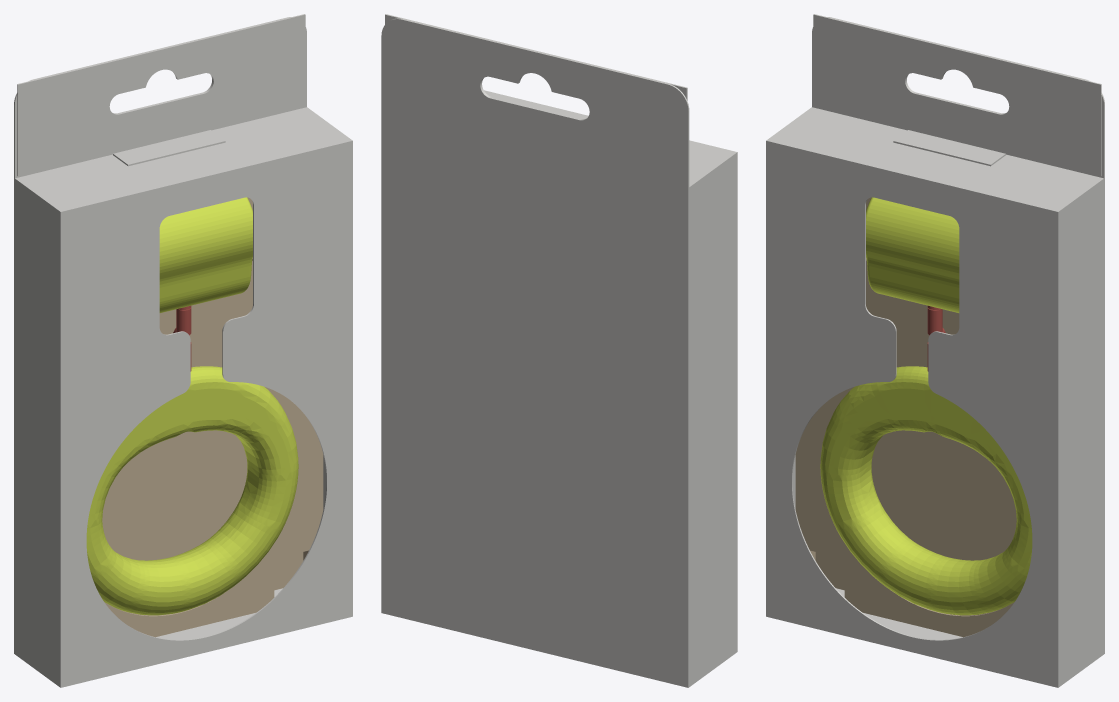
File: Tuerzwerg_Verpackung.glb
3 renders of one model, left to right at view 1: azimuth 30°, elevation 25°; view 2: azimuth 150°, elevation 25°; view 3: azimuth 330°, elevation 25°, orthographic. The views are drawn at different scales.
Parts seen in each view (by area): view 1: Umverpackung, Einleger, Aufhaenger, Ring, Manschette, Zunge; view 2: Umverpackung, Aufhaenger; view 3: Umverpackung, Einleger, Aufhaenger, Ring, Manschette, Zunge.
Boxes of the visible parts, x1,y1,x2,y2 form: Umverpackung: [14, 107, 352, 687]; Einleger: [102, 197, 323, 637]; Aufhaenger: [14, 14, 306, 178]; Ring: [86, 366, 298, 615]; Manschette: [159, 197, 252, 312]; Zunge: [113, 130, 225, 166]; Umverpackung: [381, 90, 737, 687]; Aufhaenger: [381, 14, 689, 187]; Umverpackung: [766, 107, 1104, 687]; Einleger: [795, 197, 1016, 637]; Aufhaenger: [812, 14, 1104, 178]; Ring: [820, 366, 1032, 615]; Manschette: [866, 197, 959, 312]; Zunge: [893, 130, 1005, 166].
Bounding box in the file's own units: 0.0899 × 0.1674 × 0.0249.
